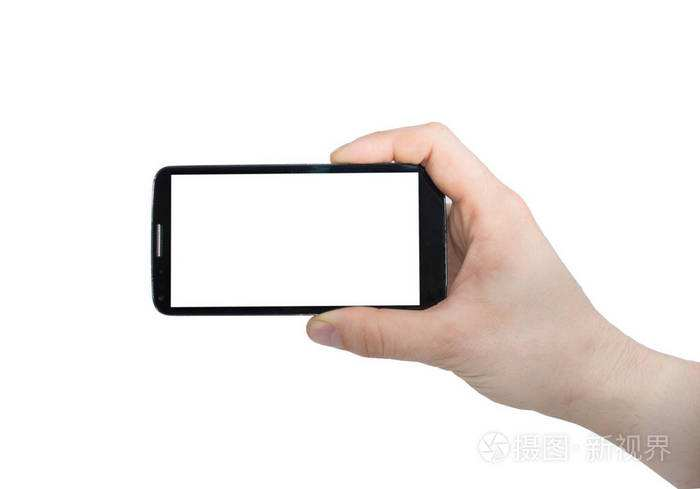phone: (132, 113, 613, 423)
